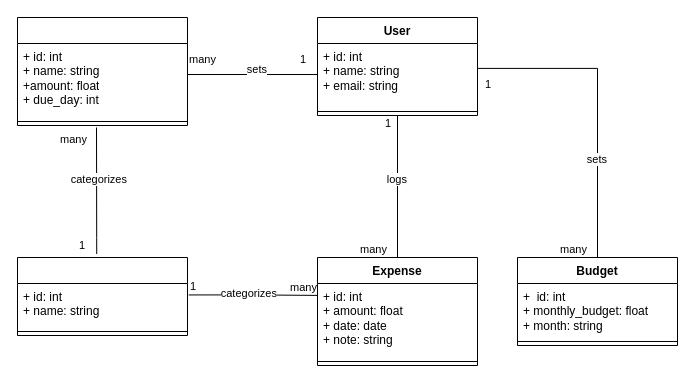
The diagram is 695 pixels wide and 383 high, and some of its shapes have lost their labels. The shapes that lost their labels are listed below. From the top down, each one's box as (x1, y1, x2, y2) in pixels, then its label:
(16, 16, 188, 126): Recurring Payment
(16, 256, 188, 336): Category
